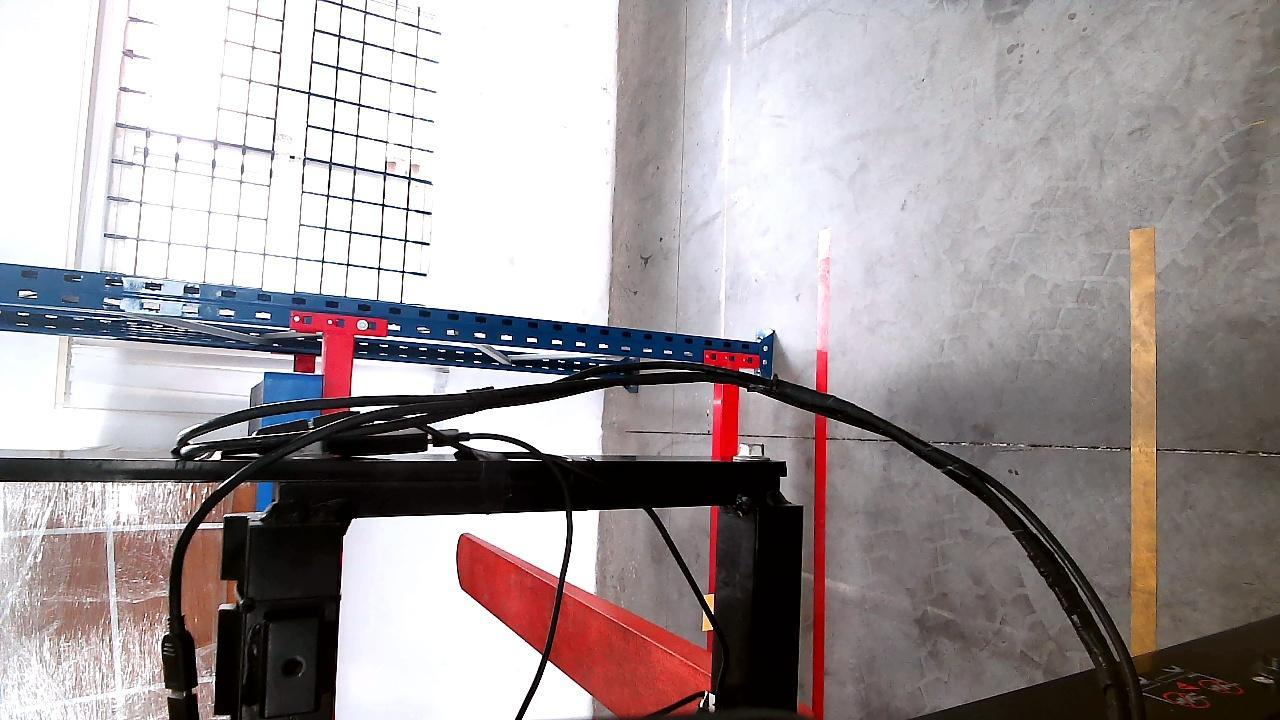red_line: (805, 258, 830, 719)
yellow_line: (1131, 222, 1160, 662)
